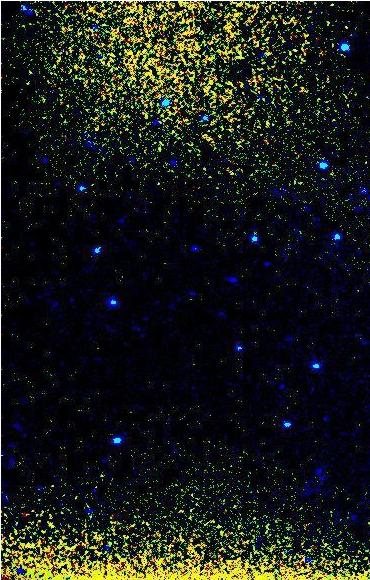star: (83, 111, 113, 141)
